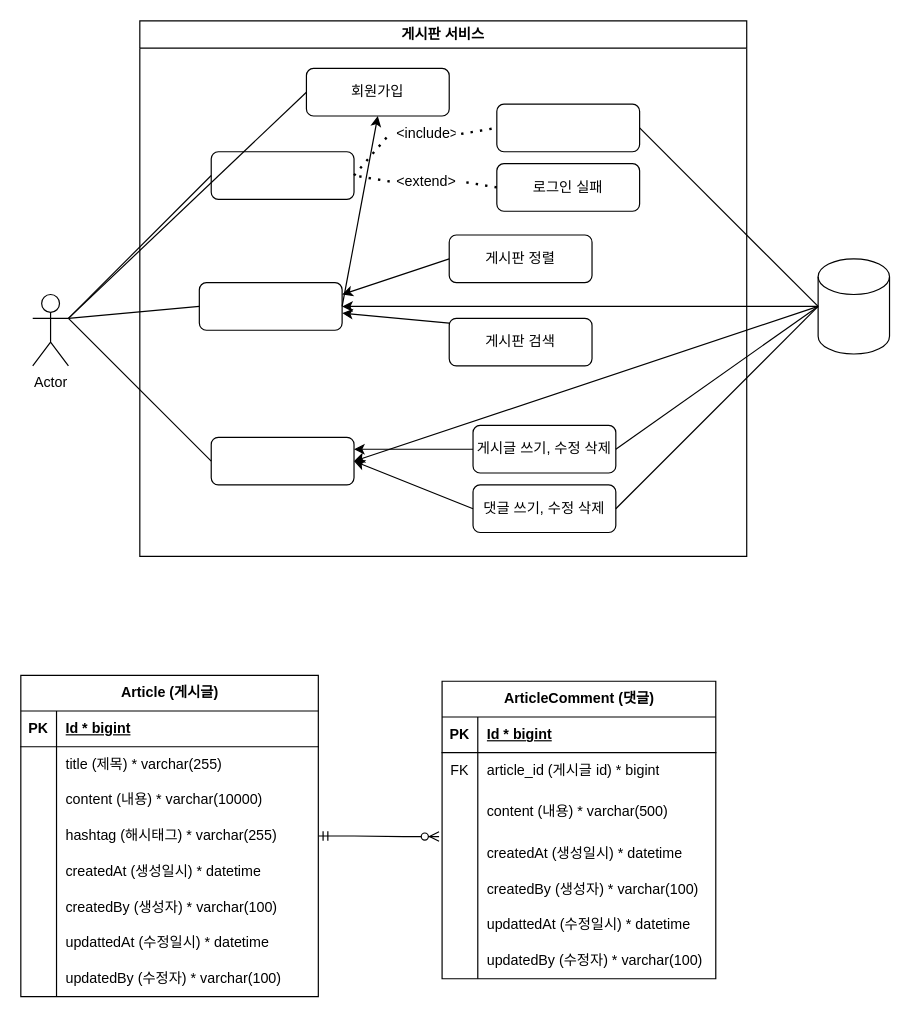
Some shapes in this 910 by 1017 pixel diagram are drawn without their labels. Here are the shapes that lost their labels. From the top down, the centre of each, then its label:
At pixel 568 127: "인증".
At pixel 282 175: "회원로그인".
At pixel 270 305: "게시판 보기".
At pixel 853 306: "DB".
At pixel 282 460: "게시글 보기".
